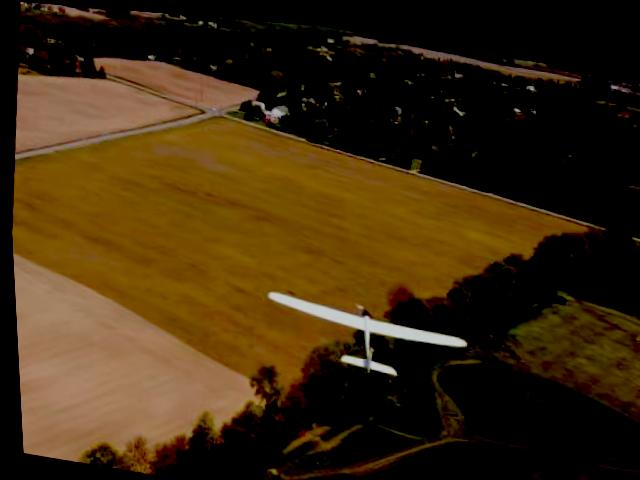uav: (249, 269, 476, 395)
